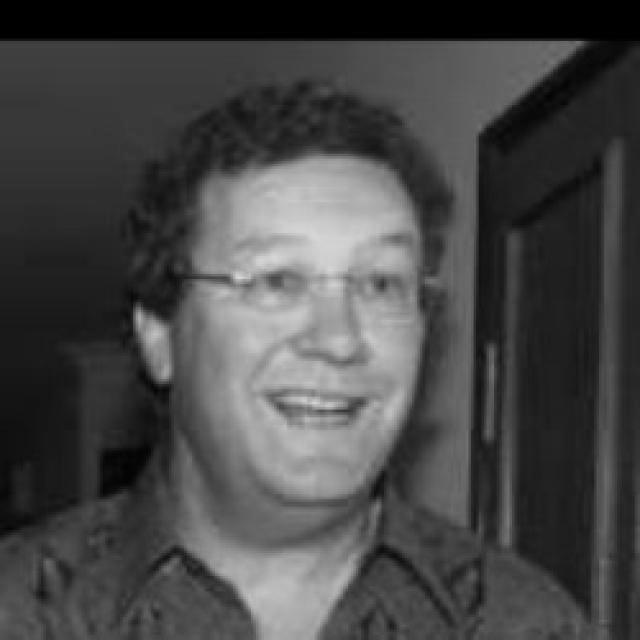real: (150, 121, 456, 499), (222, 244, 414, 315)
